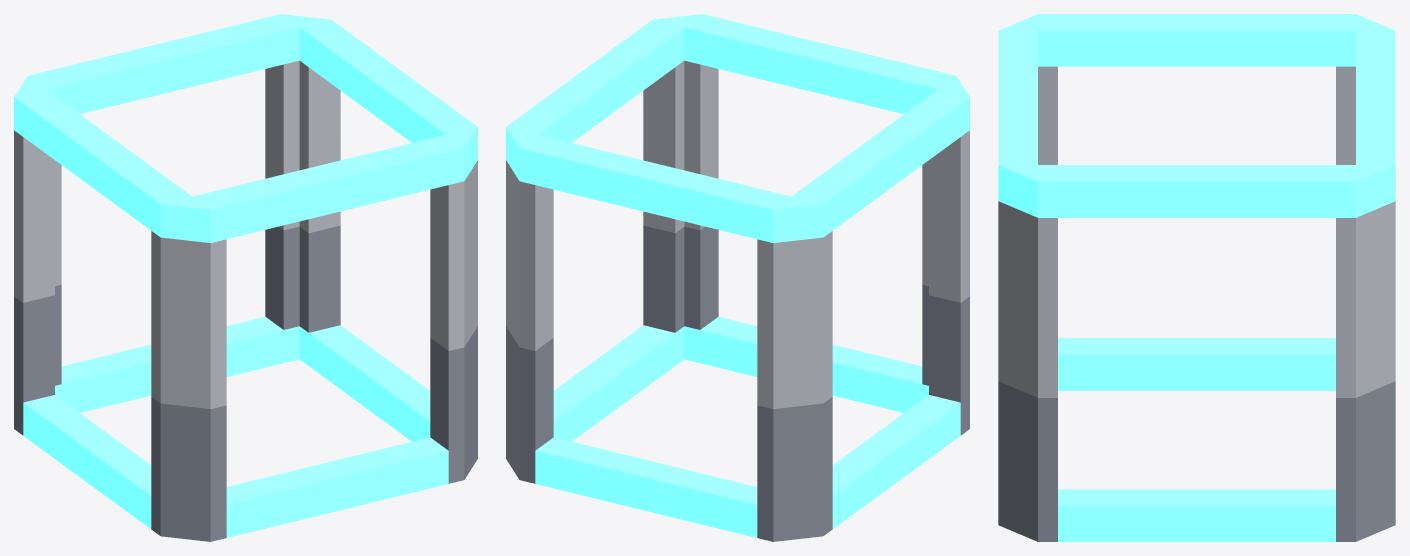
Rendered from structure_detailed.glb.
The picture shows the model from 3 angles, left to right: view 1: azimuth 30°, elevation 25°; view 2: azimuth 150°, elevation 25°; view 3: azimuth 270°, elevation 25°; orthographic projection. The views are drawn at different scales.
Visible parts, largest first — view 1: structure_detailed; view 2: structure_detailed; view 3: structure_detailed.
Boxes of the visible parts, <box> form: structure_detailed: <box>14,14,477,541</box>; structure_detailed: <box>506,14,969,541</box>; structure_detailed: <box>998,14,1395,541</box>.
Bounding box in the file's own units: 1 × 1 × 1.
